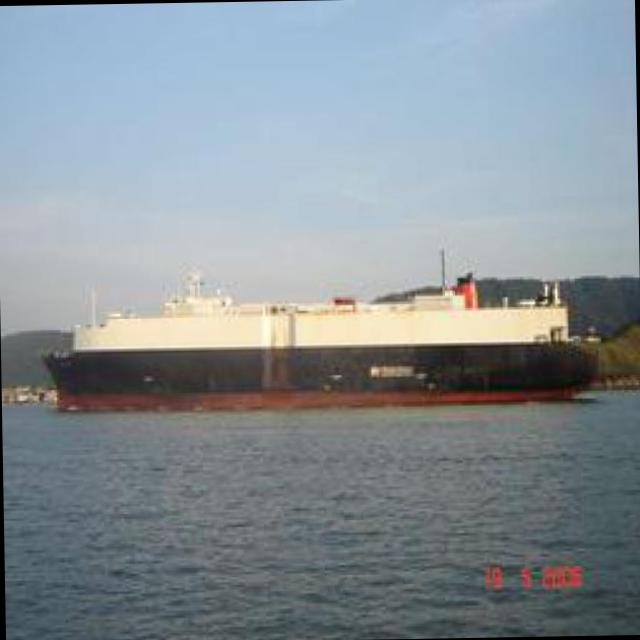boat: (25, 274, 598, 418)
